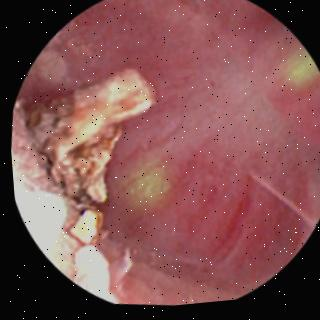laser: (130, 172, 162, 204), (290, 64, 311, 87)
stone: (9, 71, 154, 303)
tissue: (36, 0, 320, 309)
